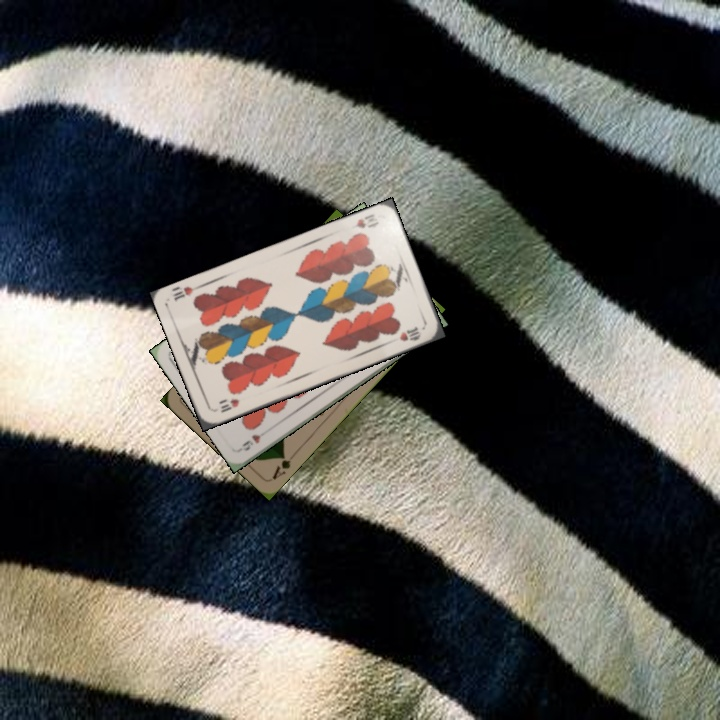GA: (268, 448, 299, 482)
H10: (346, 210, 381, 231), (211, 394, 242, 415)
H9: (236, 425, 272, 454)
